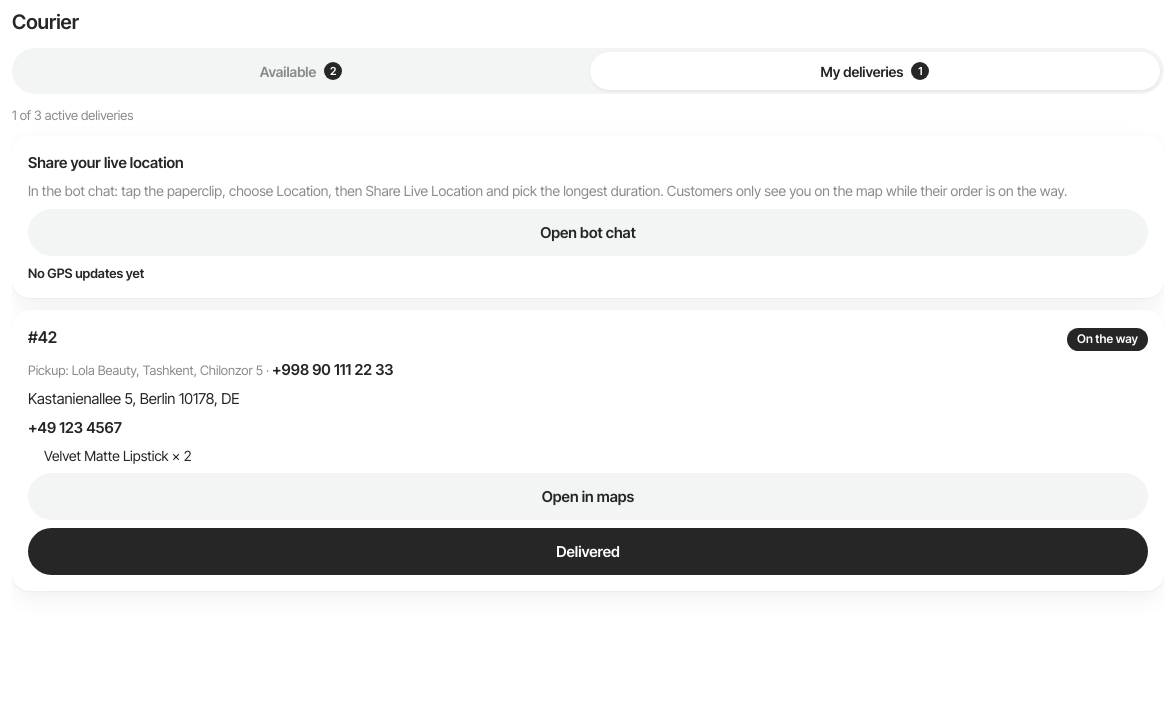
Test: CourierScreen: my deliveries › reports a delivery that changed underneath the courier
Click the button "Delivered".
click(588, 552)  # box x1=28 y1=528 x2=1148 y2=575
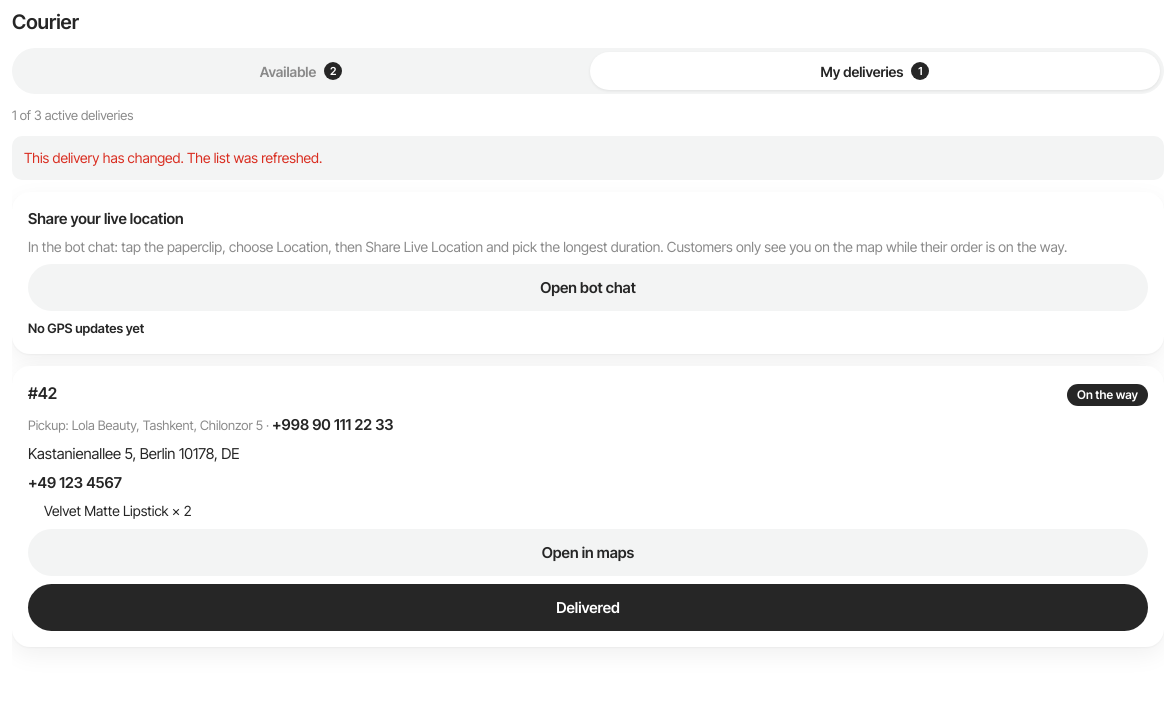
expect the message "This delivery has changed. The list was refreshed." is shown: met, box x1=12 y1=136 x2=1163 y2=180
